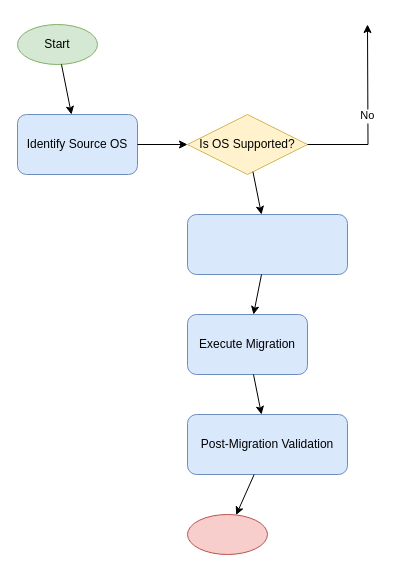
This 394x572 diagram has some shape labels left out. Here are the shapes that lost their labels. From the top down, the centre of each, then its label:
At (x=267, y=244): "Perform Pre-Migration Checks".
At (x=227, y=534): "End".
